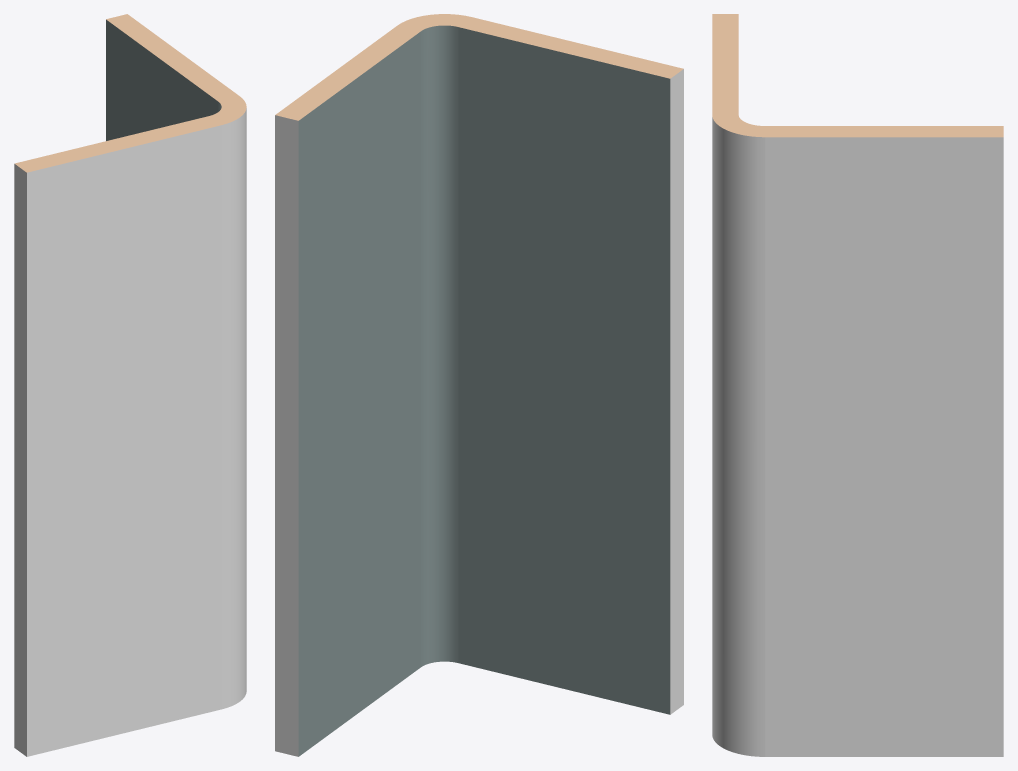
Rendered from wallCornerRond.glb.
3 views of the same model, side by side, from view 1: azimuth 30°, elevation 25°; view 2: azimuth 150°, elevation 25°; view 3: azimuth 270°, elevation 25° (orthographic). The views are drawn at different scales.
Visible parts, largest first — view 1: wallCornerRond(Clone); view 2: wallCornerRond(Clone); view 3: wallCornerRond(Clone).
Part boxes in pixels (x1,y1,x2,y2): wallCornerRond(Clone): (14,14,246,756); wallCornerRond(Clone): (275,14,683,756); wallCornerRond(Clone): (712,14,1003,756).
Size of the model in its own units: 0.55 by 1.29 by 0.55.
